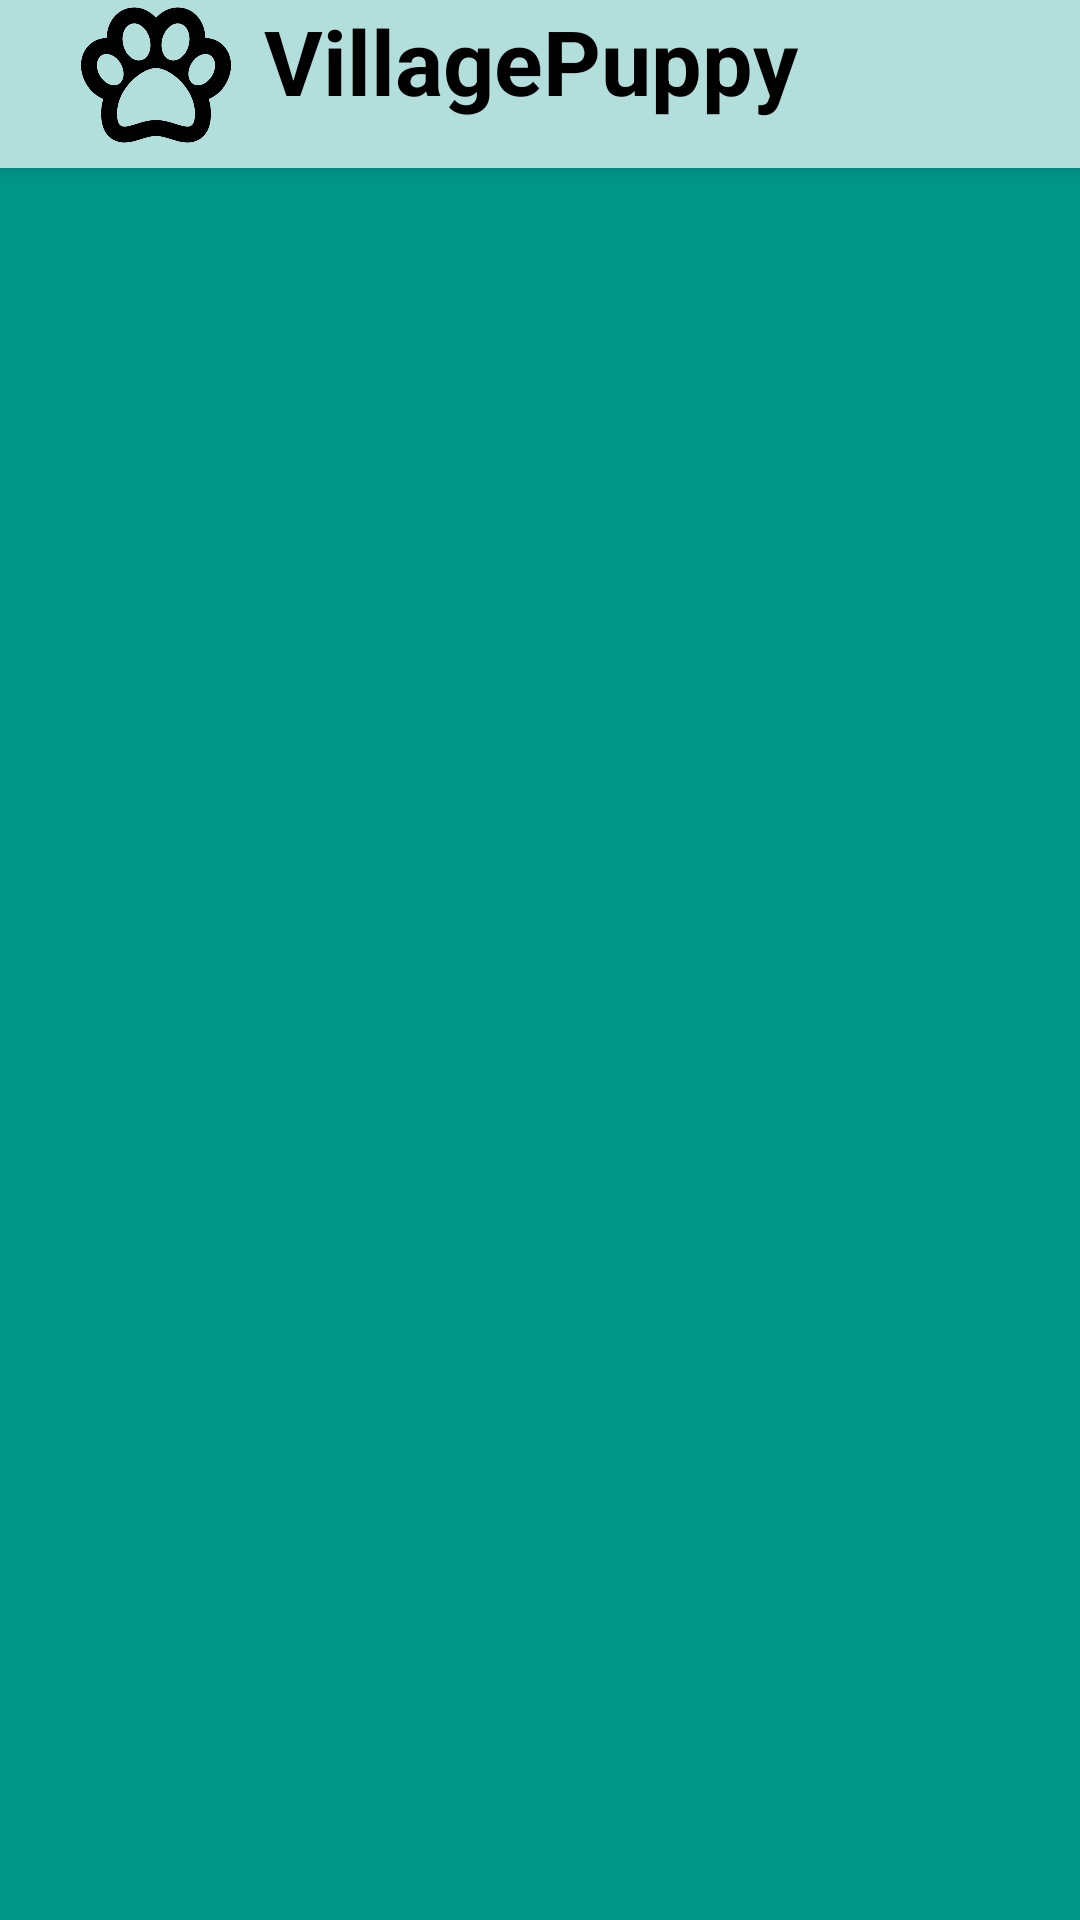

Where icons sit on this 1080 × 1920 app screen, as rect(x1, y1, x2, y2):
huella: rect(81, 7, 231, 143)
